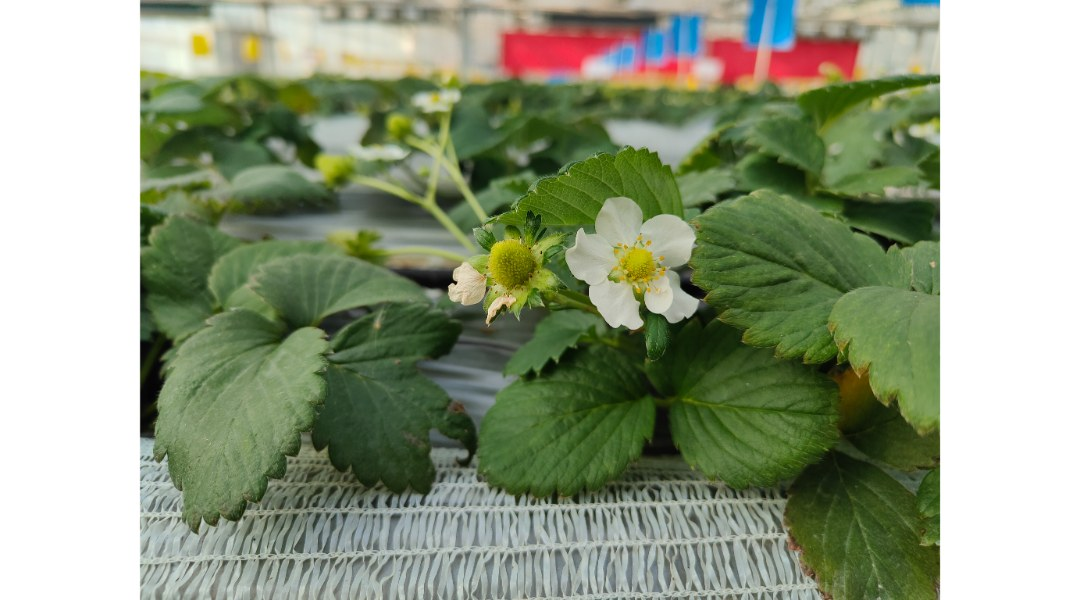berry: (469, 219, 564, 311)
flower: (567, 198, 712, 333)
